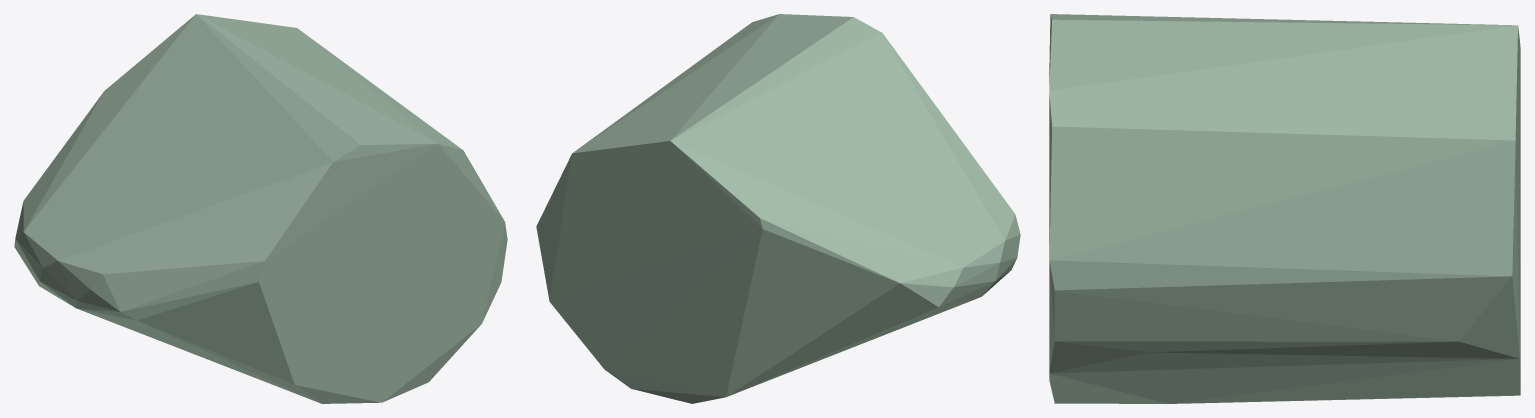
File: dishware_mug_coffee_a01.glb
The picture shows the model from 3 angles, left to right: view 1: azimuth 30°, elevation 25°; view 2: azimuth 150°, elevation 25°; view 3: azimuth 270°, elevation 25°; orthographic projection. The views are drawn at different scales.
Visible parts, largest first — view 1: geometry_0; view 2: geometry_0; view 3: geometry_0.
Part boxes in pixels (x1,y1,x2,y2): geometry_0: (14,14,507,403); geometry_0: (536,14,1020,403); geometry_0: (1049,14,1520,403).
Size of the model in its own units: 0.4791 by 0.3178 by 0.3862.
